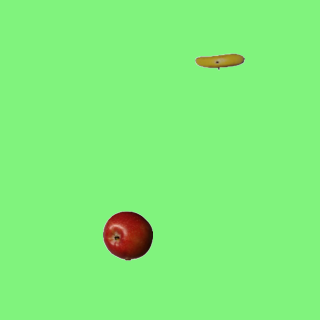Apple Braeburn: (102, 210, 152, 260)
Banana: (194, 36, 244, 86)
